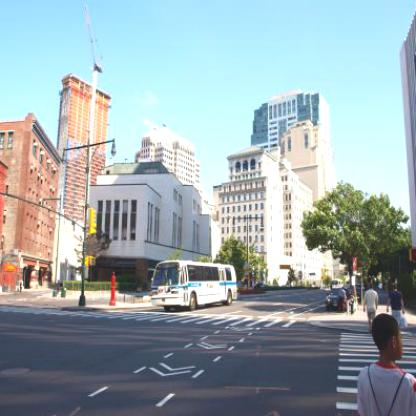car: (326, 289, 352, 309)
